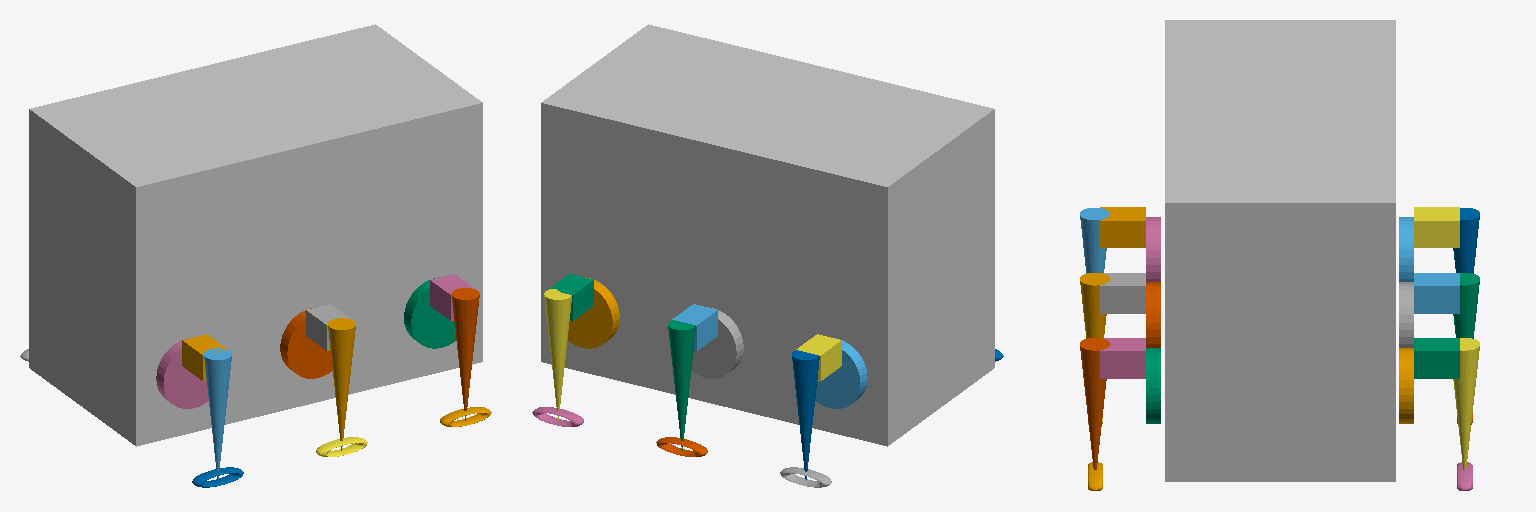
robot.urdf — oruga:
<robot name="oruga" version="1.0">
  <joint name="Cone.001_link_joint" type="fixed">
    <origin rpy="3.14159 -0.00000 3.14159" xyz="0.00000 -0.01800 -0.04000"/>
    <parent link="Cube.002_link"/>
    <child link="Cone.001_link"/>
  </joint>
  <joint name="Cone.002_link_joint" type="fixed">
    <origin rpy="3.14159 -0.00000 3.14159" xyz="0.00000 -0.01800 -0.04000"/>
    <parent link="Cube.004_link"/>
    <child link="Cone.002_link"/>
  </joint>
  <joint name="Cone.003_link_joint" type="fixed">
    <origin rpy="3.14159 -0.00000 3.14159" xyz="0.00000 0.01800 -0.04000"/>
    <parent link="Cube.005_link"/>
    <child link="Cone.003_link"/>
  </joint>
  <joint name="Cone.004_link_joint" type="fixed">
    <origin rpy="3.14159 -0.00000 3.14159" xyz="0.00000 0.01800 -0.04000"/>
    <parent link="Cube.006_link"/>
    <child link="Cone.004_link"/>
  </joint>
  <joint name="Cone.005_link_joint" type="fixed">
    <origin rpy="3.14159 -0.00000 3.14159" xyz="0.00000 0.01800 -0.04000"/>
    <parent link="Cube.007_link"/>
    <child link="Cone.005_link"/>
  </joint>
  <joint name="Cone_link_joint" type="fixed">
    <origin rpy="3.14159 -0.00000 3.14159" xyz="0.00000 -0.01800 -0.04000"/>
    <parent link="Cube.001_link"/>
    <child link="Cone_link"/>
  </joint>
  <joint name="Cube._derecha_delante_joint" type="continuous">
    <limit lower="0" upper="0" effort="100.00000" velocity="100.00000"/>
    <origin rpy="-1.57080 0.00000 0.00000" xyz="0.00000 0.02000 0.02000"/>
    <parent link="Cylinder_link"/>
    <child link="Cube.001_link"/>
    <axis xyz="0.00000 1.00000 0.00000"/>
  </joint>
  <joint name="Cube_derecha_detras_joint" type="continuous">
    <limit lower="0" upper="0" effort="100.00000" velocity="100.00000"/>
    <origin rpy="-1.57080 0.00000 0.00000" xyz="-0.00000 0.02000 0.02000"/>
    <parent link="Cylinder.002_link"/>
    <child link="Cube.004_link"/>
    <axis xyz="0.00000 1.00000 0.00000"/>
  </joint>
  <joint name="Cube_derecha_medio_joint" type="continuous">
    <limit lower="0" upper="0" effort="100.00000" velocity="100.00000"/>
    <origin rpy="-1.57080 0.00000 0.00000" xyz="0.00000 0.02000 0.02000"/>
    <parent link="Cylinder.001_link"/>
    <child link="Cube.002_link"/>
    <axis xyz="0.00000 1.00000 0.00000"/>
  </joint>
  <joint name="Cube_izquierda_delante_joint" type="continuous">
    <limit lower="0" upper="0" effort="100.00000" velocity="100.00000"/>
    <origin rpy="-1.57080 0.00000 0.00000" xyz="0.00000 0.02000 -0.02000"/>
    <parent link="Cylinder.004_link"/>
    <child link="Cube.006_link"/>
    <axis xyz="0.00000 1.00000 0.00000"/>
  </joint>
  <joint name="Cube_izquierda_detras_joint" type="continuous">
    <limit lower="0" upper="0" effort="100.00000" velocity="100.00000"/>
    <origin rpy="-1.57080 0.00000 0.00000" xyz="-0.00000 0.02000 -0.02000"/>
    <parent link="Cylinder.005_link"/>
    <child link="Cube.007_link"/>
    <axis xyz="0.00000 1.00000 0.00000"/>
  </joint>
  <joint name="Cube_izquierda_medio_joint" type="continuous">
    <limit lower="0" upper="0" effort="100.00000" velocity="100.00000"/>
    <origin rpy="-1.57080 0.00000 0.00000" xyz="0.00000 0.02000 -0.02000"/>
    <parent link="Cylinder.003_link"/>
    <child link="Cube.005_link"/>
    <axis xyz="0.00000 1.00000 0.00000"/>
  </joint>
  <joint name="Torus.001_link_joint" type="fixed">
    <origin rpy="-1.57080 -1.57080 -3.14159" xyz="-0.00000 0.00000 0.04500"/>
    <parent link="Cone.001_link"/>
    <child link="Torus.001_link"/>
  </joint>
  <joint name="Torus.002_link_joint" type="fixed">
    <origin rpy="-1.57080 -1.57080 -3.14159" xyz="0.00000 0.00000 0.04500"/>
    <parent link="Cone.002_link"/>
    <child link="Torus.002_link"/>
  </joint>
  <joint name="Torus.003_link_joint" type="fixed">
    <origin rpy="-1.57080 -1.57080 -3.14159" xyz="-0.00000 0.00000 0.04500"/>
    <parent link="Cone.003_link"/>
    <child link="Torus.003_link"/>
  </joint>
  <joint name="Torus.004_link_joint" type="fixed">
    <origin rpy="-1.57080 -1.57080 -3.14159" xyz="0.00000 0.00000 0.04500"/>
    <parent link="Cone.004_link"/>
    <child link="Torus.004_link"/>
  </joint>
  <joint name="Torus.005_link_joint" type="fixed">
    <origin rpy="-1.57080 -1.57080 -3.14159" xyz="0.00000 0.00000 0.04500"/>
    <parent link="Cone.005_link"/>
    <child link="Torus.005_link"/>
  </joint>
  <joint name="Torus_link_joint" type="fixed">
    <origin rpy="1.57080 -1.57080 3.14159" xyz="0.00000 0.00000 0.04500"/>
    <parent link="Cone_link"/>
    <child link="Torus_link"/>
  </joint>
  <joint name="derecha_delante_joint" type="continuous">
    <limit lower="0" upper="0" effort="100.00000" velocity="100.00000"/>
    <origin rpy="1.57080 0.00000 0.00000" xyz="0.10000 -0.08200 -0.05000"/>
    <parent link="Cube_link"/>
    <child link="Cylinder_link"/>
    <axis xyz="0.00000 0.00000 1.00000"/>
  </joint>
  <joint name="derecha_detras_joint" type="continuous">
    <limit lower="0" upper="0" effort="100.00000" velocity="100.00000"/>
    <origin rpy="1.57080 0.00000 0.00000" xyz="-0.10000 -0.08200 -0.05000"/>
    <parent link="Cube_link"/>
    <child link="Cylinder.002_link"/>
    <axis xyz="0.00000 0.00000 1.00000"/>
  </joint>
  <joint name="derecha_medio_joint" type="continuous">
    <limit lower="0" upper="0" effort="100.00000" velocity="100.00000"/>
    <origin rpy="1.57080 0.00000 0.00000" xyz="0.00000 -0.08200 -0.05000"/>
    <parent link="Cube_link"/>
    <child link="Cylinder.001_link"/>
    <axis xyz="0.00000 0.00000 1.00000"/>
  </joint>
  <joint name="izquierda_delante_joint" type="continuous">
    <limit lower="0" upper="0" effort="100.00000" velocity="100.00000"/>
    <origin rpy="1.57080 0.00000 0.00000" xyz="0.10000 0.08200 -0.05000"/>
    <parent link="Cube_link"/>
    <child link="Cylinder.004_link"/>
    <axis xyz="0.00000 0.00000 1.00000"/>
  </joint>
  <joint name="izquierda_detras_joint" type="continuous">
    <limit lower="0" upper="0" effort="100.00000" velocity="100.00000"/>
    <origin rpy="1.57080 0.00000 0.00000" xyz="-0.10000 0.08200 -0.05000"/>
    <parent link="Cube_link"/>
    <child link="Cylinder.005_link"/>
    <axis xyz="0.00000 0.00000 1.00000"/>
  </joint>
  <joint name="izquierda_medio_joint" type="continuous">
    <limit lower="0" upper="0" effort="100.00000" velocity="100.00000"/>
    <origin rpy="1.57080 0.00000 0.00000" xyz="0.00000 0.08200 -0.05000"/>
    <parent link="Cube_link"/>
    <child link="Cylinder.003_link"/>
    <axis xyz="0.00000 0.00000 1.00000"/>
  </joint>
  <link name="Cone.001_link">
    <inertial>
      <inertia ixx="0.00001" ixy="0.00000" ixz="-0.00000" iyy="0.00001" iyz="0.00000" izz="0.00000"/>
      <origin rpy="0.00000 0.00000 0.00000" xyz="0.00000 0.00000 -0.02500"/>
      <mass value="0.01000"/>
    </inertial>
    <visual name="Cone.001">
      <origin rpy="0.00000 -0.00000 0.00000" xyz="0.00000 0.00000 0.00000"/>
      <geometry>
        <mesh filename="../meshes/dae/Cone.001.dae" scale="0.01000 0.01000 0.05000"/>
      </geometry>
    </visual>
  </link>
  <link name="Cone.002_link">
    <inertial>
      <inertia ixx="0.00001" ixy="0.00000" ixz="-0.00000" iyy="0.00001" iyz="0.00000" izz="0.00000"/>
      <origin rpy="0.00000 0.00000 0.00000" xyz="0.00000 0.00000 -0.02500"/>
      <mass value="0.01000"/>
    </inertial>
    <visual name="Cone.002">
      <origin rpy="0.00000 -0.00000 0.00000" xyz="0.00000 0.00000 0.00000"/>
      <geometry>
        <mesh filename="../meshes/dae/Cone.002.dae" scale="0.01000 0.01000 0.05000"/>
      </geometry>
    </visual>
  </link>
  <link name="Cone.003_link">
    <inertial>
      <inertia ixx="0.00001" ixy="0.00000" ixz="-0.00000" iyy="0.00001" iyz="0.00000" izz="0.00000"/>
      <origin rpy="0.00000 0.00000 0.00000" xyz="0.00000 0.00000 -0.02500"/>
      <mass value="0.01000"/>
    </inertial>
    <visual name="Cone.003">
      <origin rpy="0.00000 -0.00000 0.00000" xyz="0.00000 0.00000 0.00000"/>
      <geometry>
        <mesh filename="../meshes/dae/Cone.003.dae" scale="0.01000 0.01000 0.05000"/>
      </geometry>
    </visual>
  </link>
  <link name="Cone.004_link">
    <inertial>
      <inertia ixx="0.00001" ixy="0.00000" ixz="-0.00000" iyy="0.00001" iyz="0.00000" izz="0.00000"/>
      <origin rpy="0.00000 0.00000 0.00000" xyz="0.00000 0.00000 -0.02500"/>
      <mass value="0.01000"/>
    </inertial>
    <visual name="Cone.004">
      <origin rpy="0.00000 -0.00000 0.00000" xyz="0.00000 0.00000 0.00000"/>
      <geometry>
        <mesh filename="../meshes/dae/Cone.004.dae" scale="0.01000 0.01000 0.05000"/>
      </geometry>
    </visual>
  </link>
  <link name="Cone.005_link">
    <inertial>
      <inertia ixx="0.00001" ixy="0.00000" ixz="-0.00000" iyy="0.00001" iyz="0.00000" izz="0.00000"/>
      <origin rpy="0.00000 0.00000 0.00000" xyz="0.00000 0.00000 -0.02500"/>
      <mass value="0.01000"/>
    </inertial>
    <visual name="Cone.005">
      <origin rpy="0.00000 -0.00000 0.00000" xyz="0.00000 0.00000 0.00000"/>
      <geometry>
        <mesh filename="../meshes/dae/Cone.005.dae" scale="0.01000 0.01000 0.05000"/>
      </geometry>
    </visual>
  </link>
  <link name="Cone_link">
    <inertial>
      <inertia ixx="0.00001" ixy="0.00000" ixz="-0.00000" iyy="0.00001" iyz="0.00000" izz="0.00000"/>
      <origin rpy="0.00000 0.00000 0.00000" xyz="0.00000 0.00000 -0.00000"/>
      <mass value="0.01000"/>
    </inertial>
    <visual name="Cone">
      <origin rpy="0.00000 -0.00000 0.00000" xyz="0.00000 0.00000 0.00000"/>
      <geometry>
        <mesh filename="../meshes/dae/Cone.dae" scale="0.01000 0.01000 0.05000"/>
      </geometry>
    </visual>
  </link>
  <link name="Cube.001_link">
    <inertial>
      <inertia ixx="0.00000" ixy="0.00000" ixz="0.00000" iyy="0.00000" iyz="0.00000" izz="0.00000"/>
      <origin rpy="0.00000 0.00000 0.00000" xyz="0.00000 -0.00000 0.00000"/>
      <mass value="0.01000"/>
    </inertial>
    <visual name="Cube.001">
      <origin rpy="0.00000 0.00000 0.00000" xyz="0.00000 0.00000 0.00000"/>
      <geometry>
        <box size="0.02000 0.03000 0.02000"/>
      </geometry>
    </visual>
  </link>
  <link name="Cube.002_link">
    <inertial>
      <inertia ixx="0.00000" ixy="0.00000" ixz="0.00000" iyy="0.00000" iyz="0.00000" izz="0.00000"/>
      <origin rpy="0.00000 0.00000 0.00000" xyz="0.00000 -0.00000 0.00000"/>
      <mass value="0.01000"/>
    </inertial>
    <visual name="Cube.002">
      <origin rpy="0.00000 0.00000 0.00000" xyz="0.00000 0.00000 0.00000"/>
      <geometry>
        <box size="0.02000 0.03000 0.02000"/>
      </geometry>
    </visual>
  </link>
  <link name="Cube.004_link">
    <inertial>
      <inertia ixx="0.00000" ixy="0.00000" ixz="0.00000" iyy="0.00000" iyz="0.00000" izz="0.00000"/>
      <origin rpy="0.00000 0.00000 0.00000" xyz="0.00000 -0.00000 0.00000"/>
      <mass value="0.01000"/>
    </inertial>
    <visual name="Cube.004">
      <origin rpy="0.00000 0.00000 0.00000" xyz="0.00000 0.00000 0.00000"/>
      <geometry>
        <box size="0.02000 0.03000 0.02000"/>
      </geometry>
    </visual>
  </link>
  <link name="Cube.005_link">
    <inertial>
      <inertia ixx="0.00000" ixy="0.00000" ixz="0.00000" iyy="0.00000" iyz="0.00000" izz="0.00000"/>
      <origin rpy="0.00000 0.00000 0.00000" xyz="0.00000 0.00000 0.00000"/>
      <mass value="0.01000"/>
    </inertial>
    <visual name="Cube.005">
      <origin rpy="0.00000 0.00000 0.00000" xyz="0.00000 0.00000 0.00000"/>
      <geometry>
        <box size="0.02000 0.03000 0.02000"/>
      </geometry>
    </visual>
  </link>
  <link name="Cube.006_link">
    <inertial>
      <inertia ixx="0.00000" ixy="0.00000" ixz="0.00000" iyy="0.00000" iyz="0.00000" izz="0.00000"/>
      <origin rpy="0.00000 0.00000 0.00000" xyz="0.00000 0.00000 0.00000"/>
      <mass value="0.01000"/>
    </inertial>
    <visual name="Cube.006">
      <origin rpy="0.00000 0.00000 0.00000" xyz="0.00000 0.00000 0.00000"/>
      <geometry>
        <box size="0.02000 0.03000 0.02000"/>
      </geometry>
    </visual>
  </link>
  <link name="Cube.007_link">
    <inertial>
      <inertia ixx="0.00000" ixy="0.00000" ixz="0.00000" iyy="0.00000" iyz="0.00000" izz="0.00000"/>
      <origin rpy="0.00000 0.00000 0.00000" xyz="0.00000 0.00000 0.00000"/>
      <mass value="0.01000"/>
    </inertial>
    <visual name="Cube.007">
      <origin rpy="0.00000 0.00000 0.00000" xyz="0.00000 0.00000 0.00000"/>
      <geometry>
        <box size="0.02000 0.03000 0.02000"/>
      </geometry>
    </visual>
  </link>
  <link name="Cube_link">
    <collision name="Cube_collision">
      <origin rpy="0.00000 0.00000 0.00000" xyz="0.00000 0.00000 -0.00000"/>
      <geometry>
        <box size="0.28000 0.15000 0.20000"/>
      </geometry>
    </collision>
    <inertial>
      <inertia ixx="0.00521" ixy="0.00000" ixz="0.00000" iyy="0.00987" iyz="0.00000" izz="0.00841"/>
      <origin rpy="0.00000 0.00000 0.00000" xyz="0.00000 0.00000 -0.00000"/>
      <mass value="1.00000"/>
    </inertial>
    <visual name="Cube">
      <origin rpy="0.00000 0.00000 0.00000" xyz="0.00000 0.00000 -0.00000"/>
      <material name="Material"/>
      <geometry>
        <box size="0.28000 0.15000 0.20000"/>
      </geometry>
    </visual>
  </link>
  <link name="Cylinder.001_link">
    <inertial>
      <inertia ixx="0.00000" ixy="0.00000" ixz="0.00000" iyy="0.00000" iyz="0.00000" izz="0.00000"/>
      <origin rpy="0.00000 0.00000 0.00000" xyz="0.00000 -0.00000 0.00000"/>
      <mass value="0.01000"/>
    </inertial>
    <visual name="Cylinder.001">
      <origin rpy="0.00000 0.00000 0.00000" xyz="0.00000 0.00000 0.00000"/>
      <geometry>
        <cylinder radius="0.02500" length="0.01000"/>
      </geometry>
    </visual>
  </link>
  <link name="Cylinder.002_link">
    <inertial>
      <inertia ixx="0.00000" ixy="0.00000" ixz="0.00000" iyy="0.00000" iyz="0.00000" izz="0.00000"/>
      <origin rpy="0.00000 0.00000 0.00000" xyz="-0.00000 -0.00000 0.00000"/>
      <mass value="0.01000"/>
    </inertial>
    <visual name="Cylinder.002">
      <origin rpy="0.00000 0.00000 0.00000" xyz="-0.00000 0.00000 0.00000"/>
      <geometry>
        <cylinder radius="0.02500" length="0.01000"/>
      </geometry>
    </visual>
  </link>
  <link name="Cylinder.003_link">
    <inertial>
      <inertia ixx="0.00000" ixy="0.00000" ixz="0.00000" iyy="0.00000" iyz="0.00000" izz="0.00000"/>
      <origin rpy="0.00000 0.00000 0.00000" xyz="0.00000 0.00000 -0.00000"/>
      <mass value="0.01000"/>
    </inertial>
    <visual name="Cylinder.003">
      <origin rpy="0.00000 0.00000 0.00000" xyz="0.00000 0.00000 -0.00000"/>
      <geometry>
        <cylinder radius="0.02500" length="0.01000"/>
      </geometry>
    </visual>
  </link>
  <link name="Cylinder.004_link">
    <inertial>
      <inertia ixx="0.00000" ixy="0.00000" ixz="0.00000" iyy="0.00000" iyz="0.00000" izz="0.00000"/>
      <origin rpy="0.00000 0.00000 0.00000" xyz="0.00000 0.00000 -0.00000"/>
      <mass value="0.01000"/>
    </inertial>
    <visual name="Cylinder.004">
      <origin rpy="0.00000 0.00000 0.00000" xyz="0.00000 0.00000 -0.00000"/>
      <geometry>
        <cylinder radius="0.02500" length="0.01000"/>
      </geometry>
    </visual>
  </link>
  <link name="Cylinder.005_link">
    <inertial>
      <inertia ixx="0.00000" ixy="0.00000" ixz="0.00000" iyy="0.00000" iyz="0.00000" izz="0.00000"/>
      <origin rpy="0.00000 0.00000 0.00000" xyz="-0.00000 0.00000 -0.00000"/>
      <mass value="0.01000"/>
    </inertial>
    <visual name="Cylinder.005">
      <origin rpy="0.00000 0.00000 0.00000" xyz="-0.00000 0.00000 -0.00000"/>
      <geometry>
        <cylinder radius="0.02500" length="0.01000"/>
      </geometry>
    </visual>
  </link>
  <link name="Cylinder_link">
    <inertial>
      <inertia ixx="0.00000" ixy="0.00000" ixz="0.00000" iyy="0.00000" iyz="0.00000" izz="0.00000"/>
      <origin rpy="0.00000 0.00000 0.00000" xyz="0.00000 -0.00000 0.00000"/>
      <mass value="0.01000"/>
    </inertial>
    <visual name="Cylinder">
      <origin rpy="0.00000 0.00000 0.00000" xyz="0.00000 0.00000 0.00000"/>
      <geometry>
        <cylinder radius="0.02500" length="0.01000"/>
      </geometry>
    </visual>
  </link>
  <link name="Torus.001_link">
    <collision name="Torus.001_collision">
      <origin rpy="0.00000 0.00000 0.00000" xyz="0.00000 0.00000 0.00000"/>
      <geometry>
        <mesh filename="../meshes/dae/Torus.001.dae" scale="0.00400 0.01600 0.02000"/>
      </geometry>
    </collision>
    <inertial>
      <inertia ixx="0.00000" ixy="0.00000" ixz="0.00000" iyy="0.00000" iyz="0.00000" izz="0.00000"/>
      <origin rpy="0.00000 0.00000 0.00000" xyz="0.00000 -0.00000 0.00000"/>
      <mass value="0.01000"/>
    </inertial>
    <visual name="Torus.001">
      <origin rpy="0.00000 0.00000 -0.00000" xyz="0.00000 0.00000 0.00000"/>
      <geometry>
        <mesh filename="../meshes/dae/Torus.001.dae" scale="0.00400 0.01600 0.02000"/>
      </geometry>
    </visual>
  </link>
  <link name="Torus.002_link">
    <collision name="Torus.002_collision">
      <origin rpy="0.00000 0.00000 0.00000" xyz="-0.00000 0.00000 0.00000"/>
      <geometry>
        <mesh filename="../meshes/dae/Torus.002.dae" scale="0.00400 0.01600 0.02000"/>
      </geometry>
    </collision>
    <inertial>
      <inertia ixx="0.00000" ixy="0.00000" ixz="0.00000" iyy="0.00000" iyz="0.00000" izz="0.00000"/>
      <origin rpy="0.00000 0.00000 0.00000" xyz="-0.00000 0.00000 0.00000"/>
      <mass value="0.01000"/>
    </inertial>
    <visual name="Torus.002">
      <origin rpy="0.00000 0.00000 -0.00000" xyz="-0.00000 0.00000 0.00000"/>
      <geometry>
        <mesh filename="../meshes/dae/Torus.002.dae" scale="0.00400 0.01600 0.02000"/>
      </geometry>
    </visual>
  </link>
  <link name="Torus.003_link">
    <collision name="Torus.003_collision">
      <origin rpy="0.00000 0.00000 0.00000" xyz="0.00000 0.00000 0.00000"/>
      <geometry>
        <mesh filename="../meshes/dae/Torus.003.dae" scale="0.00400 0.01600 0.02000"/>
      </geometry>
    </collision>
    <inertial>
      <inertia ixx="0.00000" ixy="0.00000" ixz="0.00000" iyy="0.00000" iyz="0.00000" izz="0.00000"/>
      <origin rpy="0.00000 0.00000 0.00000" xyz="0.00000 -0.00000 0.00000"/>
      <mass value="0.01000"/>
    </inertial>
    <visual name="Torus.003">
      <origin rpy="0.00000 0.00000 -0.00000" xyz="0.00000 0.00000 0.00000"/>
      <geometry>
        <mesh filename="../meshes/dae/Torus.003.dae" scale="0.00400 0.01600 0.02000"/>
      </geometry>
    </visual>
  </link>
  <link name="Torus.004_link">
    <collision name="Torus.004_collision">
      <origin rpy="0.00000 0.00000 0.00000" xyz="-0.00000 0.00000 0.00000"/>
      <geometry>
        <mesh filename="../meshes/dae/Torus.004.dae" scale="0.00400 0.01600 0.02000"/>
      </geometry>
    </collision>
    <inertial>
      <inertia ixx="0.00000" ixy="0.00000" ixz="0.00000" iyy="0.00000" iyz="0.00000" izz="0.00000"/>
      <origin rpy="0.00000 0.00000 0.00000" xyz="0.00000 0.00000 0.00000"/>
      <mass value="0.01000"/>
    </inertial>
    <visual name="Torus.004">
      <origin rpy="0.00000 0.00000 -0.00000" xyz="-0.00000 0.00000 0.00000"/>
      <geometry>
        <mesh filename="../meshes/dae/Torus.004.dae" scale="0.00400 0.01600 0.02000"/>
      </geometry>
    </visual>
  </link>
  <link name="Torus.005_link">
    <collision name="Torus.005_collision">
      <origin rpy="0.00000 0.00000 0.00000" xyz="-0.00000 0.00000 0.00000"/>
      <geometry>
        <mesh filename="../meshes/dae/Torus.005.dae" scale="0.00400 0.01600 0.02000"/>
      </geometry>
    </collision>
    <inertial>
      <inertia ixx="0.00000" ixy="0.00000" ixz="0.00000" iyy="0.00000" iyz="0.00000" izz="0.00000"/>
      <origin rpy="0.00000 0.00000 0.00000" xyz="-0.00000 0.00000 0.00000"/>
      <mass value="0.01000"/>
    </inertial>
    <visual name="Torus.005">
      <origin rpy="0.00000 0.00000 -0.00000" xyz="-0.00000 0.00000 0.00000"/>
      <geometry>
        <mesh filename="../meshes/dae/Torus.005.dae" scale="0.00400 0.01600 0.02000"/>
      </geometry>
    </visual>
  </link>
  <link name="Torus_link">
    <collision name="Torus_collision">
      <origin rpy="-0.00000 0.00000 -0.00000" xyz="-0.00000 -0.00000 -0.00000"/>
      <geometry>
        <mesh filename="../meshes/dae/Torus.dae" scale="0.00400 0.01600 0.02000"/>
      </geometry>
    </collision>
    <inertial>
      <inertia ixx="0.00000" ixy="-0.00000" ixz="0.00000" iyy="0.00000" iyz="-0.00000" izz="0.00000"/>
      <origin rpy="0.00000 0.00000 0.00000" xyz="-0.00000 -0.00000 -0.00000"/>
      <mass value="0.01000"/>
    </inertial>
    <visual name="Torus">
      <origin rpy="-0.00000 0.00000 0.00000" xyz="-0.00000 -0.00000 -0.00000"/>
      <geometry>
        <mesh filename="../meshes/dae/Torus.dae" scale="0.00400 0.01600 0.02000"/>
      </geometry>
    </visual>
  </link>
  <material name="Material">
    <color rgba="0.80000 0.80000 0.80000 1.00000"/>
  </material>
</robot>

--- Render facts (derived) ---
3 views of the same robot in one strip: view 1: azimuth 30°, elevation 25°; view 2: azimuth 150°, elevation 25°; view 3: azimuth 270°, elevation 25° (orthographic).
Model oruga with 25 links and 24 joints (12 continuous, 12 fixed), rooted at Cube_link, posed all joints at 0.
Visible links, largest first — view 1: Cube_link, Cylinder_link, Cylinder.001_link, Cylinder.002_link, Cone.001_link, Cone.002_link, Cone_link, Cube.004_link, Cube.002_link, Cube.001_link, Torus.002_link, Torus.001_link (+1 smaller); view 2: Cube_link, Cylinder.004_link, Cylinder.003_link, Cylinder.005_link, Cone.004_link, Cone.005_link, Cone.003_link, Cube.007_link, Cube.005_link, Cube.006_link, Torus.005_link, Torus.003_link (+1 smaller); view 3: Cube_link, Cone_link, Cone.004_link, Cube.005_link, Cube.006_link, Cube.007_link, Cube.004_link, Cube.002_link, Cube.001_link, Cone.002_link, Cone.001_link, Cone.005_link (+7 smaller).
Boxes of the visible links, bbox=[...] form: Cube_link: bbox=[29, 24, 482, 446]; Cylinder_link: bbox=[404, 277, 455, 348]; Cylinder.001_link: bbox=[280, 307, 332, 378]; Cylinder.002_link: bbox=[156, 338, 208, 408]; Cone.001_link: bbox=[328, 318, 355, 450]; Cone.002_link: bbox=[204, 348, 231, 479]; Cone_link: bbox=[451, 288, 479, 420]; Cube.004_link: bbox=[182, 334, 227, 381]; Cube.002_link: bbox=[306, 304, 351, 350]; Cube.001_link: bbox=[430, 274, 475, 320]; Torus.002_link: bbox=[192, 467, 243, 487]; Torus.001_link: bbox=[316, 437, 367, 456]; Cube_link: bbox=[541, 24, 994, 446]; Cylinder.004_link: bbox=[568, 277, 619, 348]; Cylinder.003_link: bbox=[691, 307, 743, 378]; Cylinder.005_link: bbox=[815, 338, 867, 408]; Cone.004_link: bbox=[544, 289, 571, 420]; Cone.005_link: bbox=[792, 350, 819, 479]; Cone.003_link: bbox=[668, 320, 695, 450]; Cube.007_link: bbox=[796, 334, 841, 381]; Cube.005_link: bbox=[672, 304, 717, 350]; Cube.006_link: bbox=[548, 274, 593, 320]; Torus.005_link: bbox=[780, 467, 831, 487]; Torus.003_link: bbox=[656, 437, 707, 456]; Cube_link: bbox=[1165, 20, 1395, 481]; Cone_link: bbox=[1080, 338, 1110, 469]; Cone.004_link: bbox=[1453, 338, 1479, 469]; Cube.005_link: bbox=[1414, 273, 1459, 313]; Cube.006_link: bbox=[1414, 338, 1459, 378]; Cube.007_link: bbox=[1414, 207, 1459, 247]; Cube.004_link: bbox=[1100, 207, 1145, 247]; Cube.002_link: bbox=[1100, 273, 1145, 313]; Cube.001_link: bbox=[1100, 338, 1145, 378]; Cone.002_link: bbox=[1080, 208, 1109, 273]; Cone.001_link: bbox=[1080, 273, 1110, 338]; Cone.005_link: bbox=[1453, 208, 1479, 273].
Bounding box of the posed robot: 0.28 × 0.26 × 0.22 m (x, y, z).
12 mesh visuals loaded from 12 distinct referenced files (12 Collada DAE).
